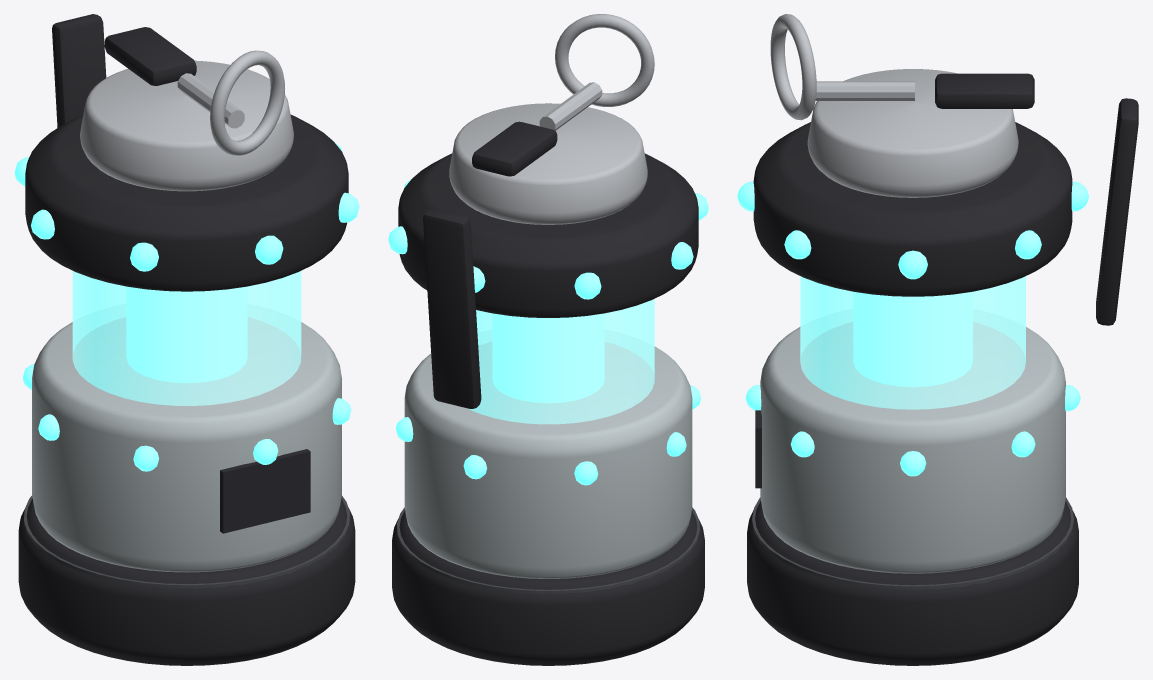
Rendered from frost_stasis.glb.
3 views of the same model, side by side, from view 1: azimuth 30°, elevation 25°; view 2: azimuth 150°, elevation 25°; view 3: azimuth 270°, elevation 25° (orthographic). The views are drawn at different scales.
Parts seen in each view (by area): view 1: Mid, Collar, Base, Cylinder.004, Cap, Cylinder.005, Cube, Cube.002, Torus, Cube.001, Cylinder.003, Cylinder.006 (+5 smaller); view 2: Mid, Base, Collar, Cylinder.004, Cap, Cube.002, Cylinder.005, Torus, Cube.001, Cylinder.003, Cylinder.006, Sphere.003 (+1 smaller); view 3: Mid, Collar, Base, Cylinder.004, Cap, Cylinder.005, Cube.002, Cube.001, Torus, Cylinder.003, Cylinder.006, Sphere (+2 smaller).
Boxes of the visible parts, x1,y1,x2,y2 form: Mid: (32, 317, 341, 572); Collar: (25, 114, 348, 291); Base: (18, 499, 355, 665); Cylinder.004: (72, 271, 301, 405); Cap: (80, 60, 293, 191); Cylinder.005: (126, 287, 247, 382); Cube: (220, 449, 310, 533); Cube.002: (52, 14, 106, 127); Torus: (210, 50, 284, 155); Cube.001: (104, 27, 196, 85); Cylinder.003: (24, 495, 349, 588); Cylinder.006: (177, 73, 244, 128); Mid: (404, 341, 692, 578); Base: (392, 511, 704, 665); Collar: (398, 153, 698, 317); Cylinder.004: (467, 299, 654, 424); Cap: (449, 103, 647, 224); Cube.002: (423, 208, 481, 408); Cylinder.005: (492, 314, 604, 402); Torus: (555, 14, 654, 106); Cube.001: (472, 121, 557, 176); Cylinder.003: (397, 507, 699, 594); Cylinder.006: (539, 82, 602, 130); Sphere.003: (574, 272, 601, 299); Mid: (760, 322, 1065, 573); Collar: (753, 122, 1072, 296); Base: (747, 501, 1078, 665); Cylinder.004: (800, 276, 1025, 409); Cap: (807, 69, 1018, 197); Cylinder.005: (853, 292, 972, 386); Cube.002: (1096, 98, 1138, 325); Cube.001: (935, 73, 1034, 108); Torus: (770, 14, 816, 120); Cylinder.003: (752, 497, 1073, 589); Cylinder.006: (815, 81, 914, 100); Sphere: (898, 250, 927, 279).
Bounding box in the file's own units: 0.1056 × 0.1942 × 0.121.
